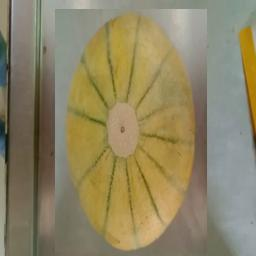Melon Fresh: (55, 10, 207, 254)
